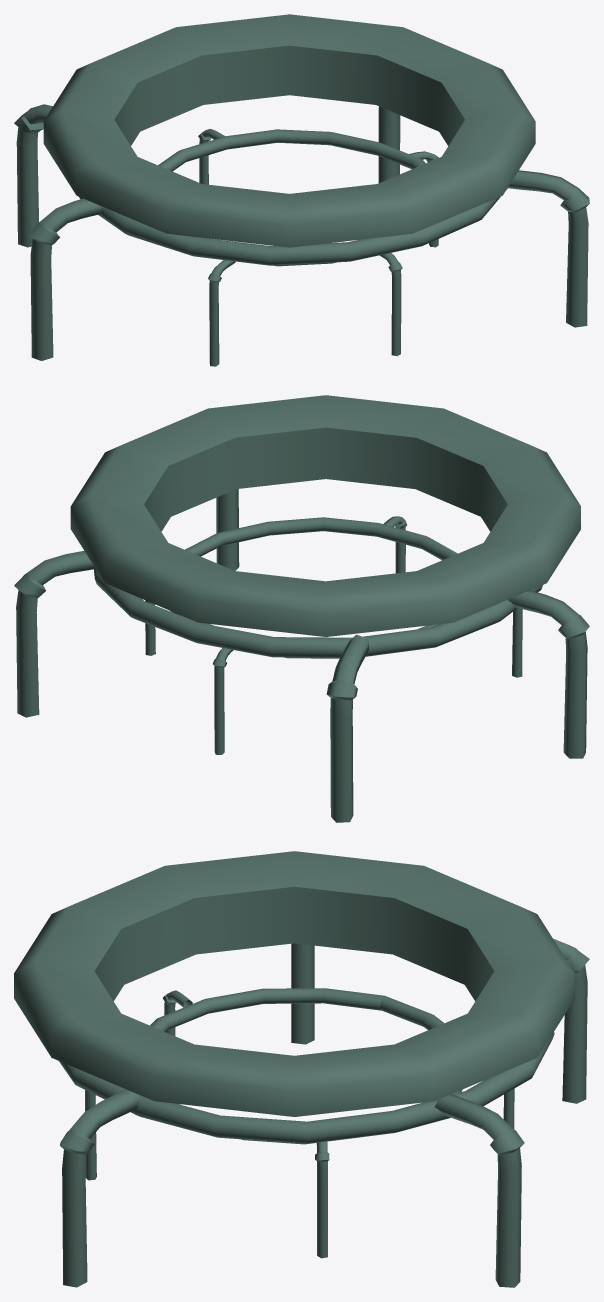
The model's file is MidGround Disk.fbx.
The picture shows the model from 3 angles, top to bottom: view 1: azimuth 30°, elevation 25°; view 2: azimuth 150°, elevation 25°; view 3: azimuth 270°, elevation 25°; orthographic projection. The views are drawn at different scales.
Visible parts, largest first — view 1: Disk, Upper_Ring, Disk_Pipe_04, Disk_Pipe_02, Lower_Ring, Disk_Pipe_06, Disk_Pipe_05, Disk_Pipe_03, Disk_Pipe_07, Disk_Pipe_09; view 2: Disk, Upper_Ring, Disk_Pipe_06, Disk_Pipe_02, Disk_Pipe_05, Lower_Ring, Disk_Pipe_04, Disk_Pipe_09, Disk_Pipe_03, Disk_Pipe_07; view 3: Disk, Upper_Ring, Disk_Pipe_05, Disk_Pipe_04, Lower_Ring, Disk_Pipe_06, Disk_Pipe_02, Disk_Pipe_08, Disk_Pipe_07.
Boxes of the visible parts, box(x1,y1,x2,y2) form: Disk: box(43, 14, 535, 247); Upper_Ring: box(79, 188, 507, 265); Disk_Pipe_04: box(508, 170, 589, 327); Disk_Pipe_02: box(28, 198, 104, 360); Lower_Ring: box(158, 129, 425, 266); Disk_Pipe_06: box(14, 104, 52, 247); Disk_Pipe_05: box(378, 106, 400, 182); Disk_Pipe_03: box(208, 260, 235, 366); Disk_Pipe_07: box(379, 253, 402, 356); Disk_Pipe_09: box(198, 129, 224, 184); Disk: box(70, 395, 580, 636); Upper_Ring: box(93, 568, 542, 657); Disk_Pipe_06: box(326, 634, 368, 822); Disk_Pipe_02: box(508, 590, 589, 758); Disk_Pipe_05: box(14, 551, 94, 717); Lower_Ring: box(170, 517, 457, 658); Disk_Pipe_04: box(216, 489, 239, 570); Disk_Pipe_09: box(213, 648, 233, 754); Disk_Pipe_03: box(512, 608, 522, 677); Disk_Pipe_07: box(383, 516, 407, 573); Disk: box(14, 851, 574, 1116); Upper_Ring: box(59, 1032, 554, 1143); Disk_Pipe_05: box(435, 1094, 524, 1287); Disk_Pipe_04: box(60, 1089, 139, 1287); Lower_Ring: box(150, 988, 462, 1144); Disk_Pipe_06: box(553, 938, 589, 1103); Disk_Pipe_02: box(291, 943, 314, 1044); Disk_Pipe_08: box(315, 1141, 329, 1258); Disk_Pipe_07: box(85, 1090, 96, 1180).
Size of the model in its own units: 7.06 by 2.72 by 6.59.
